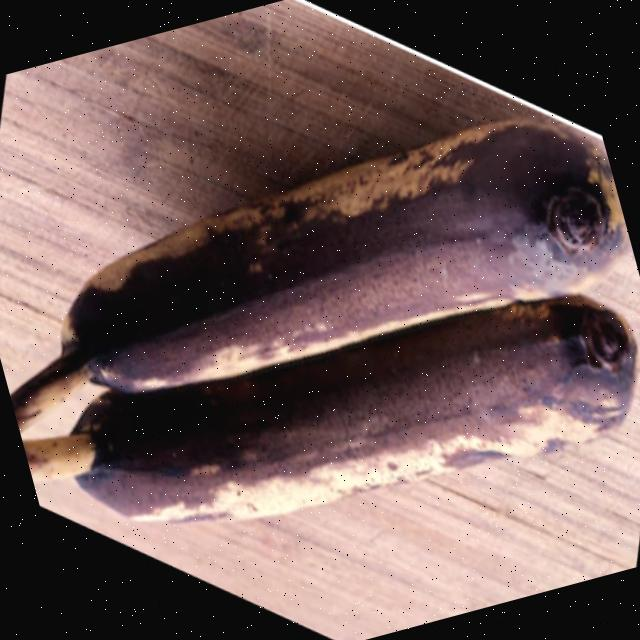Rotten: (0, 88, 640, 447), (21, 274, 640, 585)
